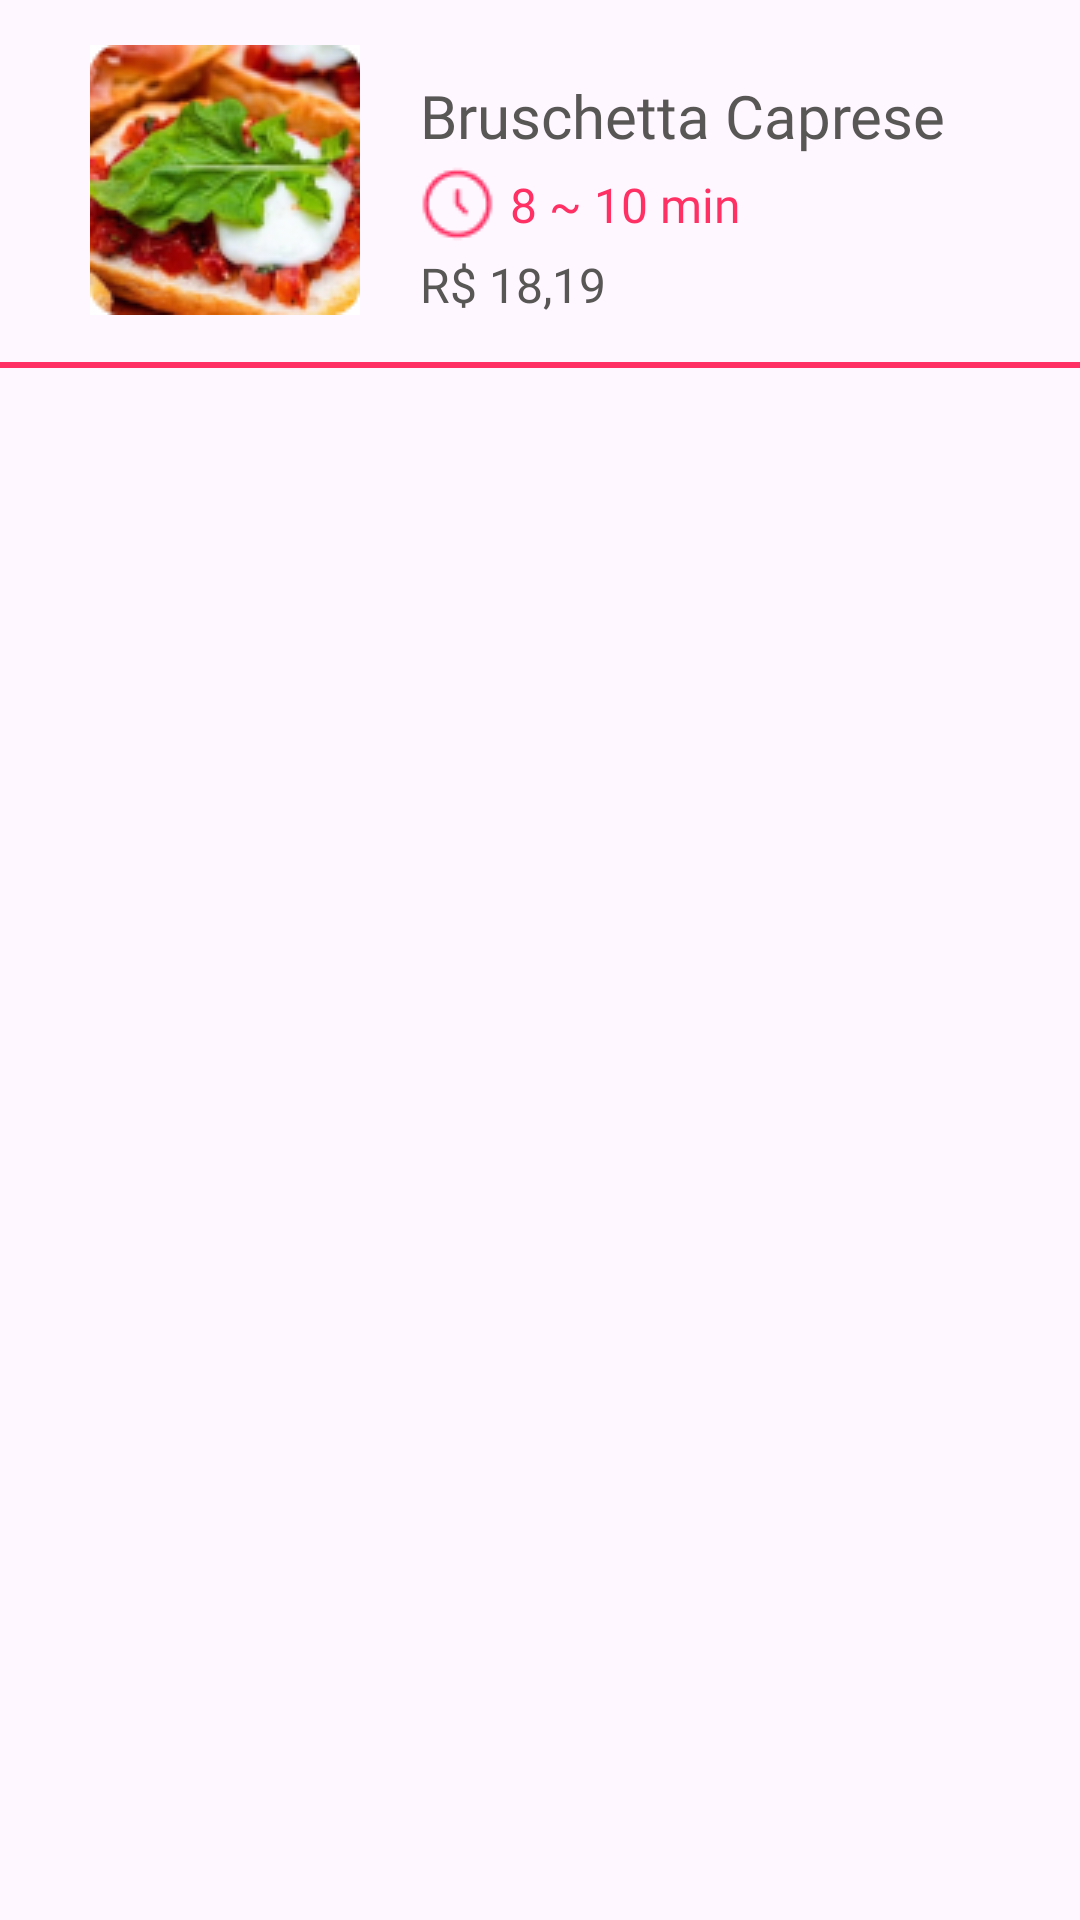

Icon click points for this 1080w x 1920h phone screenshot, format point (x, y):
clock: point (457, 204)
entrada: point (225, 180)
